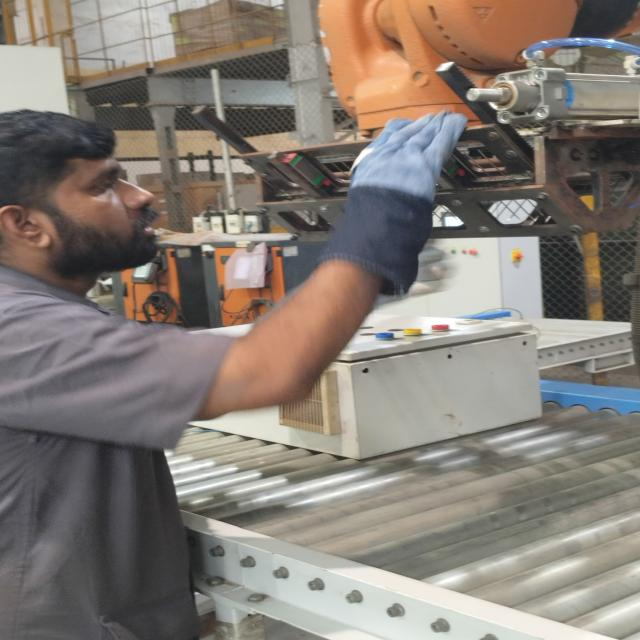Gloves-Detection: (328, 112, 445, 286)
